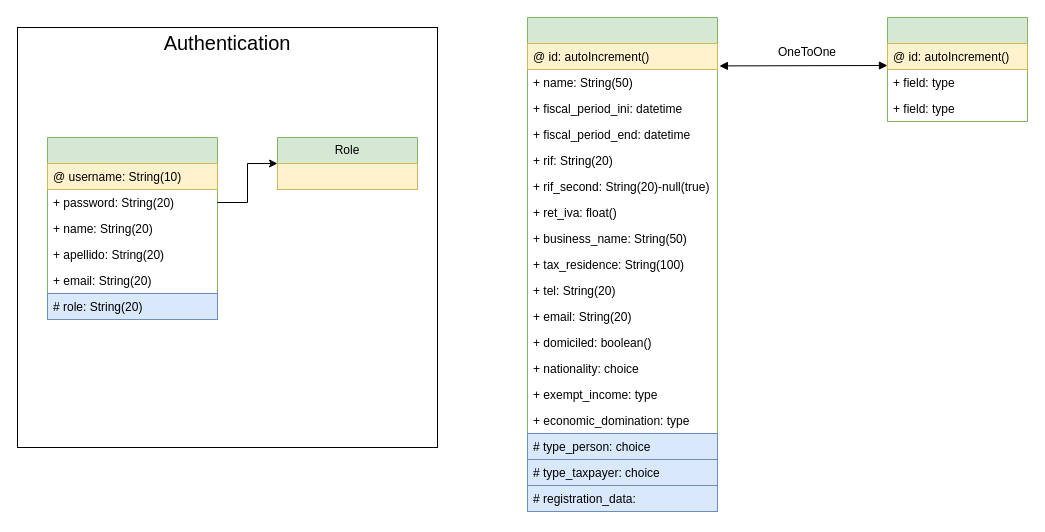
This 1045x532 diagram has some shape labels left out. The box of each missing label's shape, as (x1, y1, x2, y2) in pixels:
@ role: String(10): (276, 162, 418, 190)
Company: (526, 16, 718, 512)
CustomUser: (46, 136, 218, 320)
RegistrationData: (886, 16, 1028, 122)
